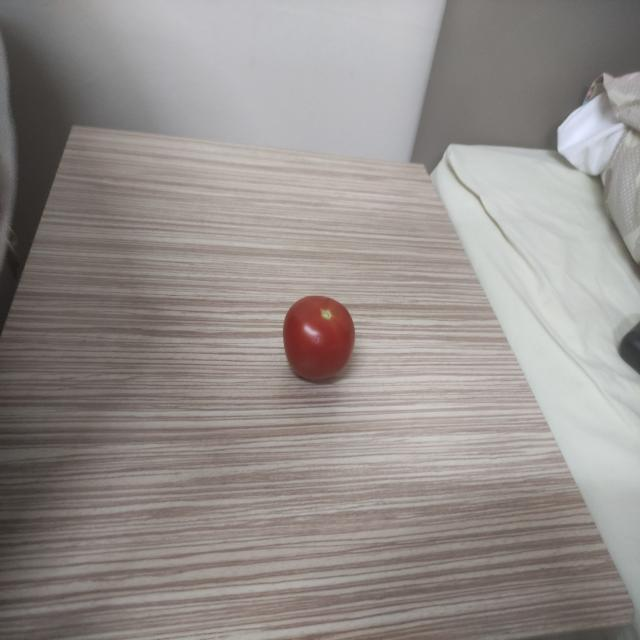kirmizi: (274, 286, 363, 385)
